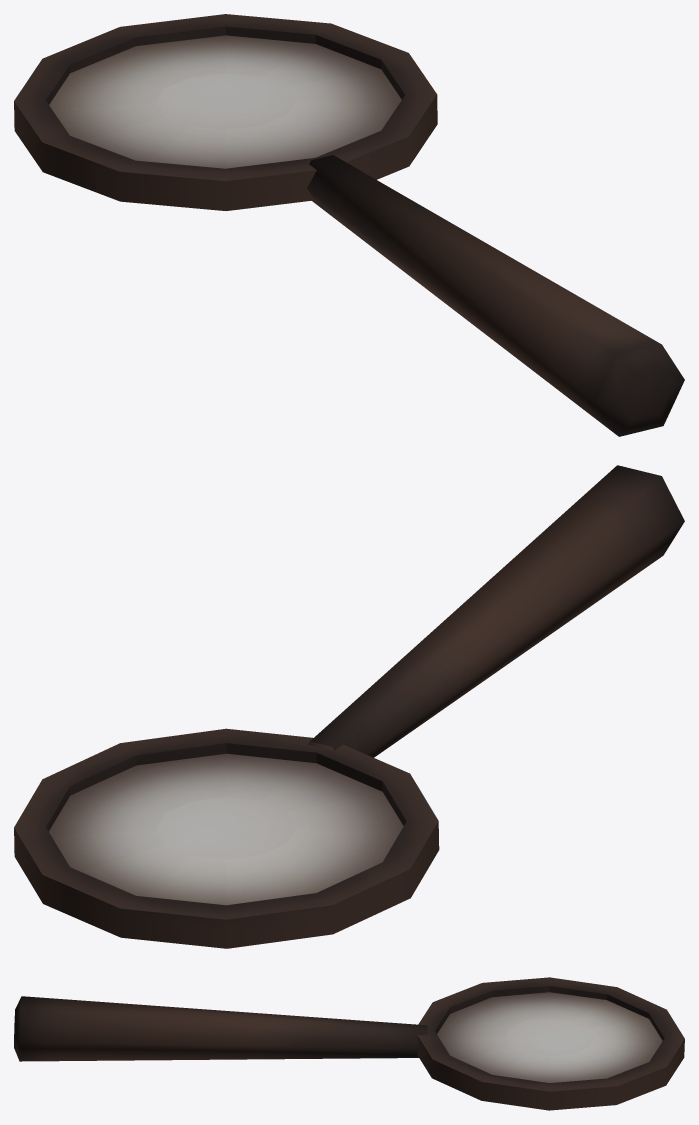
Rendered from MagnifyingGlass.FBX.
The picture shows the model from 3 angles, top to bottom: view 1: azimuth 30°, elevation 25°; view 2: azimuth 150°, elevation 25°; view 3: azimuth 270°, elevation 25°; orthographic projection. The views are drawn at different scales.
Visible parts, largest first — view 1: Cylinder023; view 2: Cylinder023; view 3: Cylinder023.
Boxes of the visible parts, x1,y1,x2,y2 form: Cylinder023: [14, 14, 684, 436]; Cylinder023: [14, 465, 684, 948]; Cylinder023: [14, 977, 684, 1110].
Size of the model in its own units: 27.78 by 6.22 by 68.87.
Materials: 1 (1 with a texture image).
